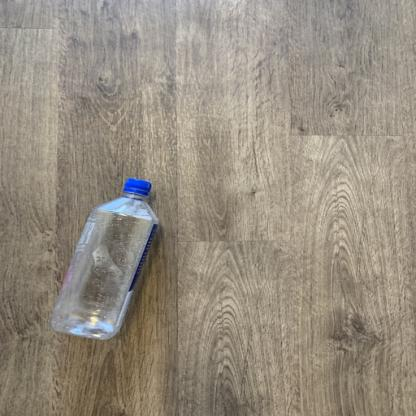trash: (48, 178, 158, 342)
